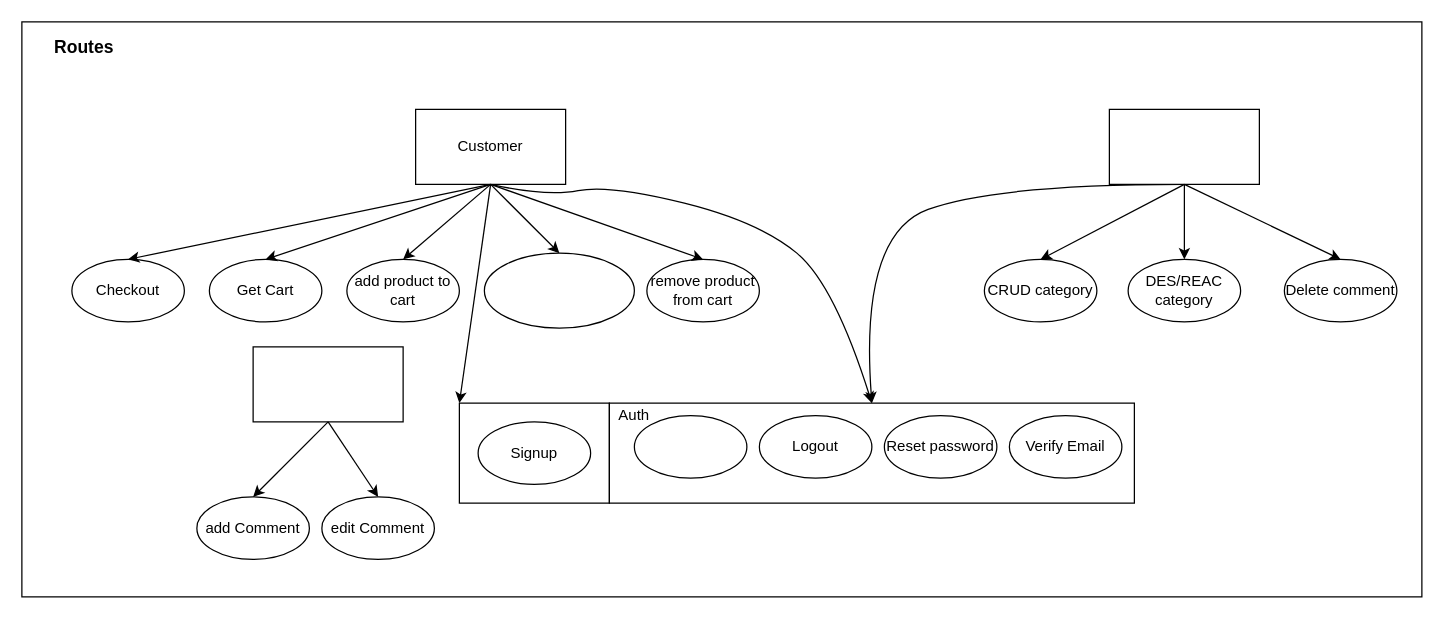
Some shapes in this 1444 by 619 pixel diagram are drawn without their labels. Each missing label, with the box of its shape:
Admin: (1108, 108, 1259, 184)
Change the Qte of product in cart: (483, 252, 634, 328)
Login: (633, 414, 747, 478)
User: (252, 346, 403, 422)
